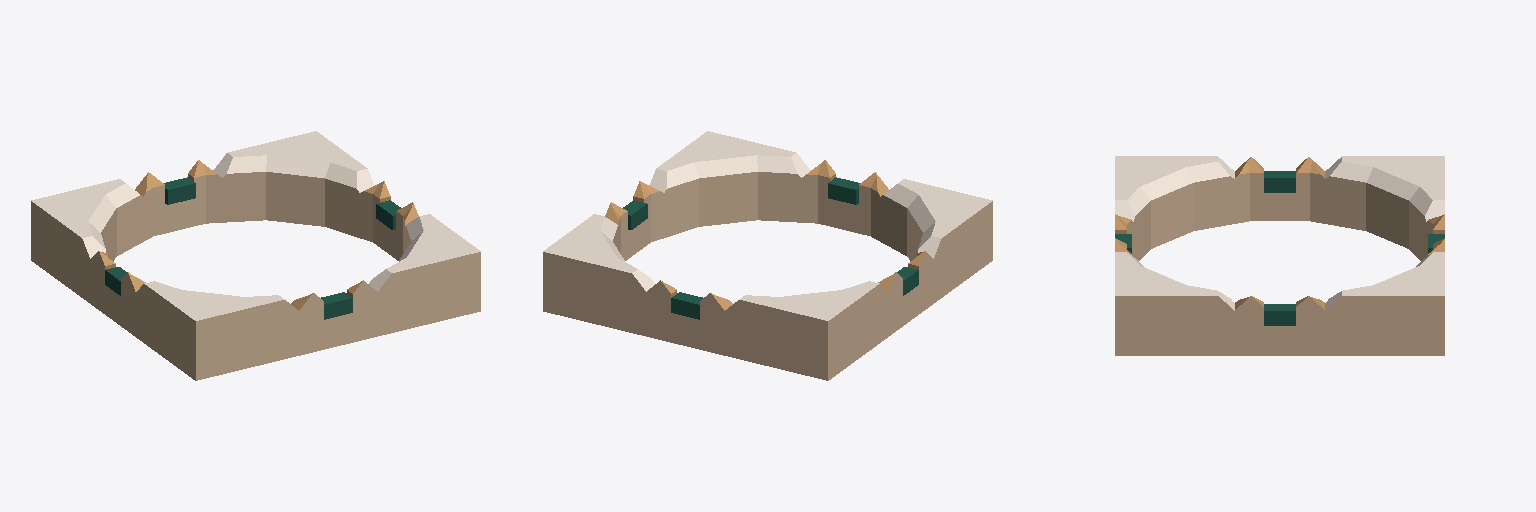
Rendered from Puzzle_Floor_Conduit_Rotating_Housing_Cross.obj.
3 renders of one model, left to right at view 1: azimuth 30°, elevation 25°; view 2: azimuth 150°, elevation 25°; view 3: azimuth 270°, elevation 25°, orthographic.
Parts seen in each view (by area): view 1: object5, object2, object1; view 2: object5, object1, object2; view 3: object5, object3, object4.
Part boxes in pixels (left/top/right/bottom): object5: left=31, top=131, right=480, bottom=380; object2: left=164, top=177, right=195, bottom=204; object1: left=321, top=292, right=352, bottom=319; object5: left=543, top=131, right=992, bottom=380; object1: left=828, top=177, right=859, bottom=204; object2: left=671, top=292, right=702, bottom=319; object5: left=1115, top=156, right=1444, bottom=355; object3: left=1264, top=171, right=1295, bottom=192; object4: left=1264, top=304, right=1295, bottom=325.
Bounding box in the file's own units: 1 × 0.2 × 1.